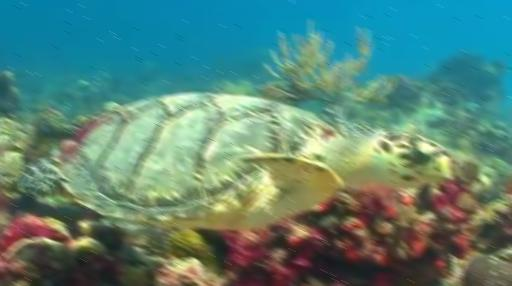Fish: (17, 92, 451, 229)
